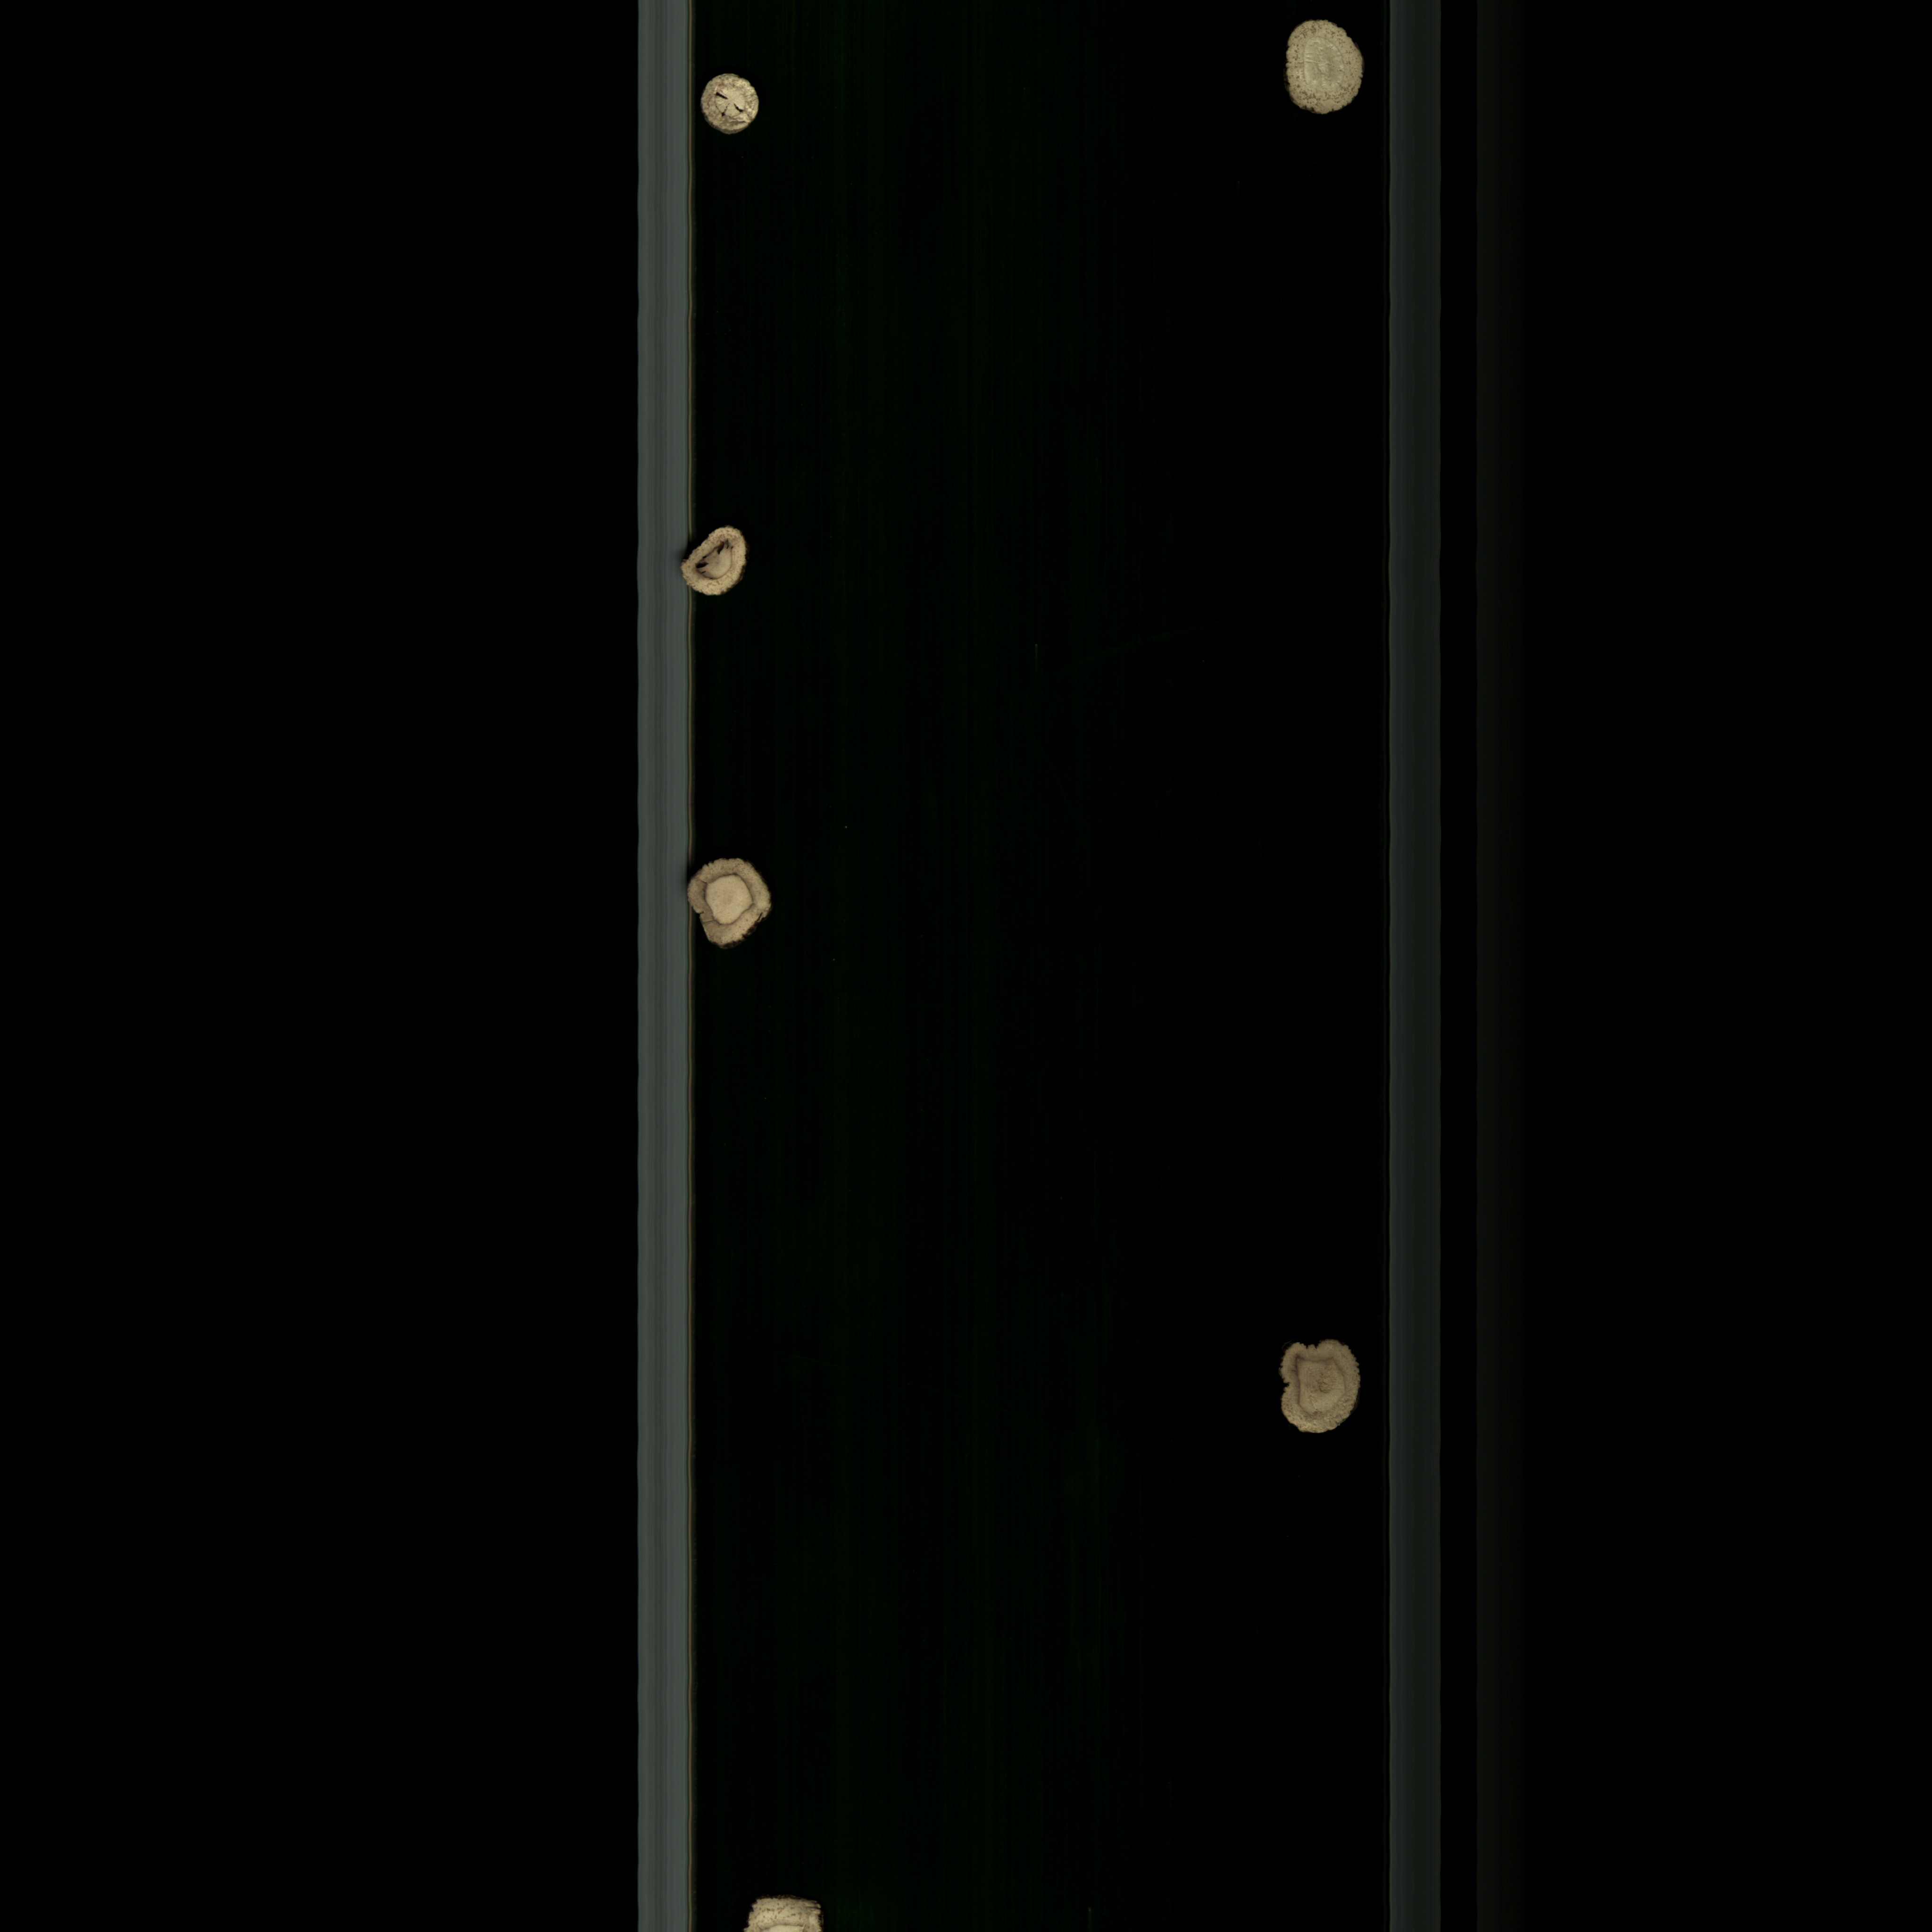hole: (674, 515, 768, 633), (692, 73, 780, 152)
moldy: (1263, 1304, 1371, 1461), (1253, 16, 1378, 129), (683, 853, 777, 957)
